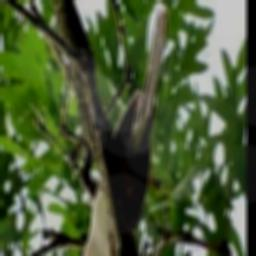Cuckoo: (65, 8, 169, 256)
